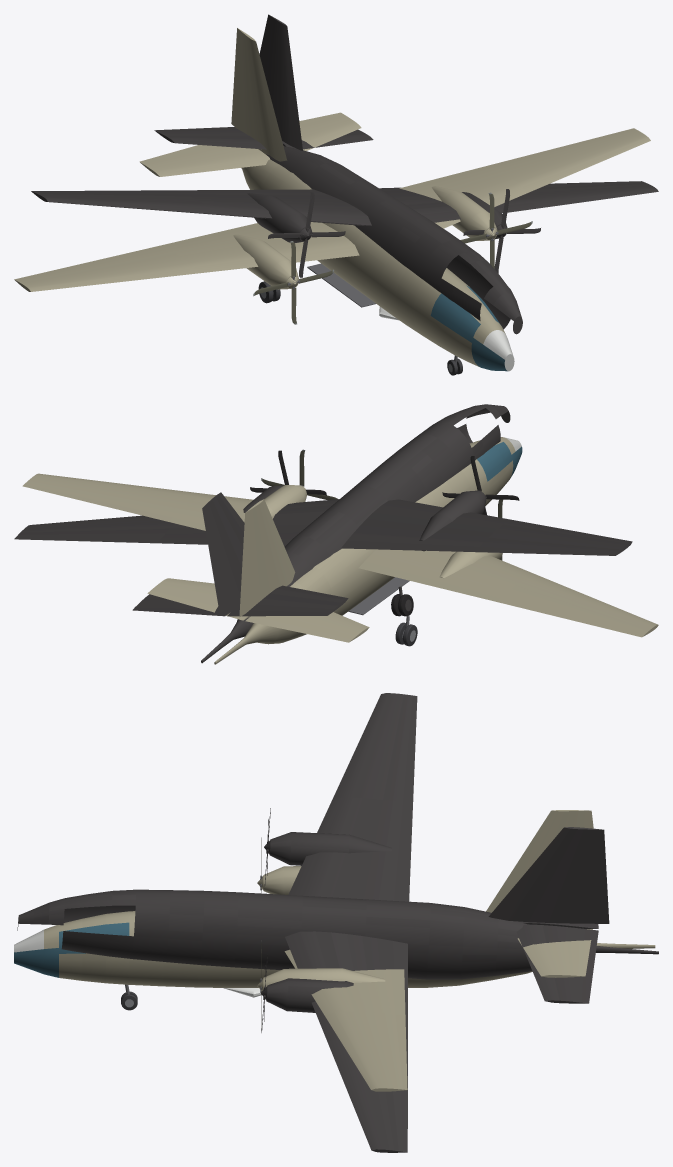
The model's file is maritimePatrol__atlantique_2.glb.
The picture shows the model from 3 angles, top to bottom: view 1: azimuth 30°, elevation 25°; view 2: azimuth 150°, elevation 25°; view 3: azimuth 270°, elevation 25°; orthographic projection. The views are drawn at different scales.
Parts seen in each view (by area): view 1: Fuselage_Mesh, Wreck, Propeller_Mesh, Propeller_1_Mesh; view 2: Wreck, Fuselage_Mesh, Propeller_1_Mesh; view 3: Wreck, Fuselage_Mesh.
Part boxes in pixels (left/top/right/bottom): Fuselage_Mesh: left=14, top=28, right=650, bottom=375; Wreck: left=31, top=14, right=658, bottom=334; Propeller_Mesh: left=253, top=241, right=334, bottom=324; Propeller_1_Mesh: left=460, top=192, right=532, bottom=268; Wreck: left=14, top=404, right=632, bottom=663; Fuselage_Mesh: left=22, top=437, right=658, bottom=664; Propeller_1_Mesh: left=261, top=449, right=338, bottom=499; Wreck: left=17, top=693, right=658, bottom=1152; Fuselage_Mesh: left=14, top=810, right=655, bottom=1091.
Size of what is drawn, in the model's own units: 38 by 10.93 by 31.88.
